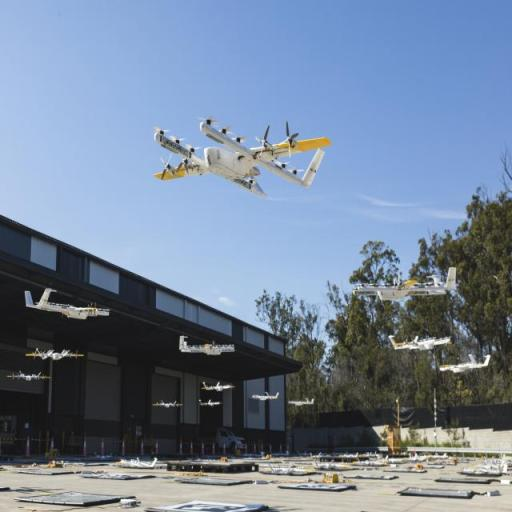uav: (147, 116, 328, 220)
